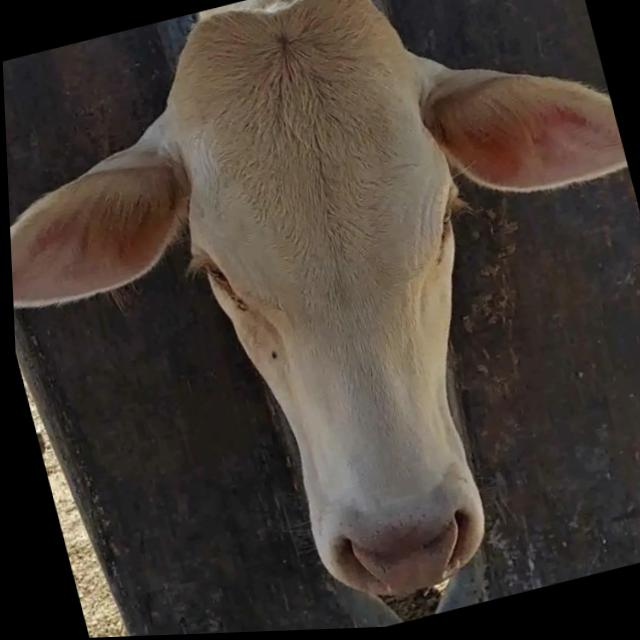cowFace: (144, 0, 554, 621)
